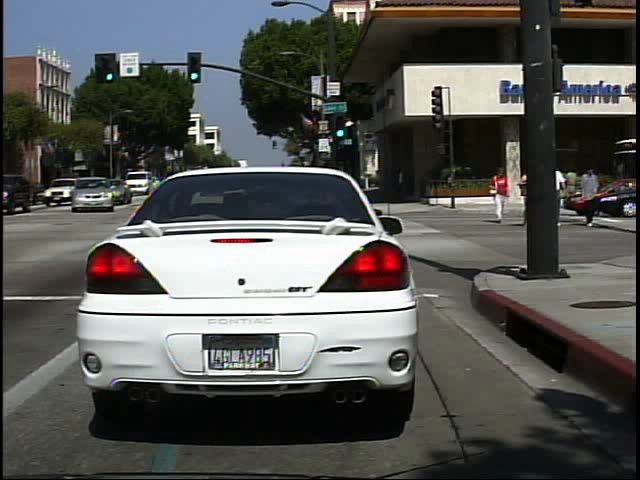person: (577, 162, 606, 231), (486, 165, 512, 227), (515, 161, 537, 227), (549, 159, 570, 227), (558, 161, 584, 214)
